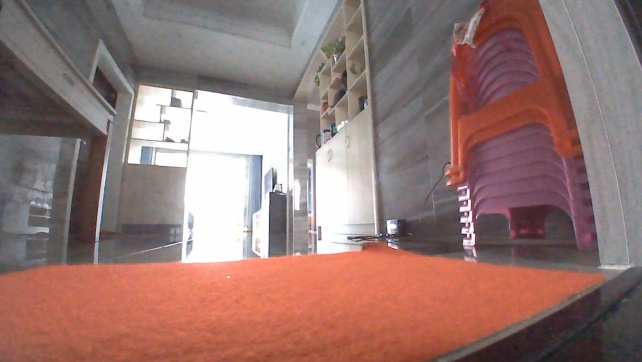blanket: (0, 240, 606, 361)
wire: (404, 160, 450, 235), (346, 232, 381, 243)
